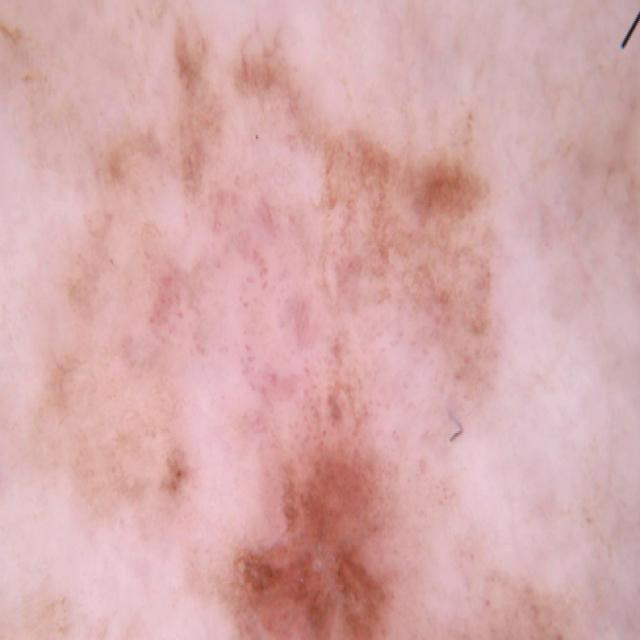Carcinoma: (207, 21, 575, 351), (221, 397, 436, 640)
